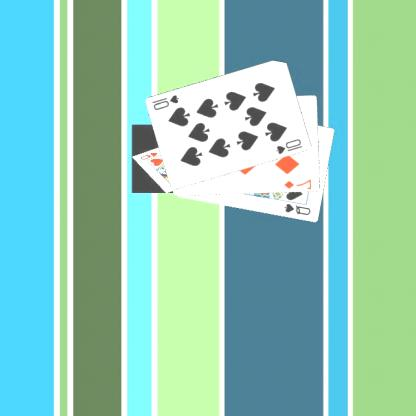10S: (151, 92, 183, 112), (275, 136, 306, 156)
7D: (283, 176, 315, 190)
QS: (283, 201, 314, 217)
